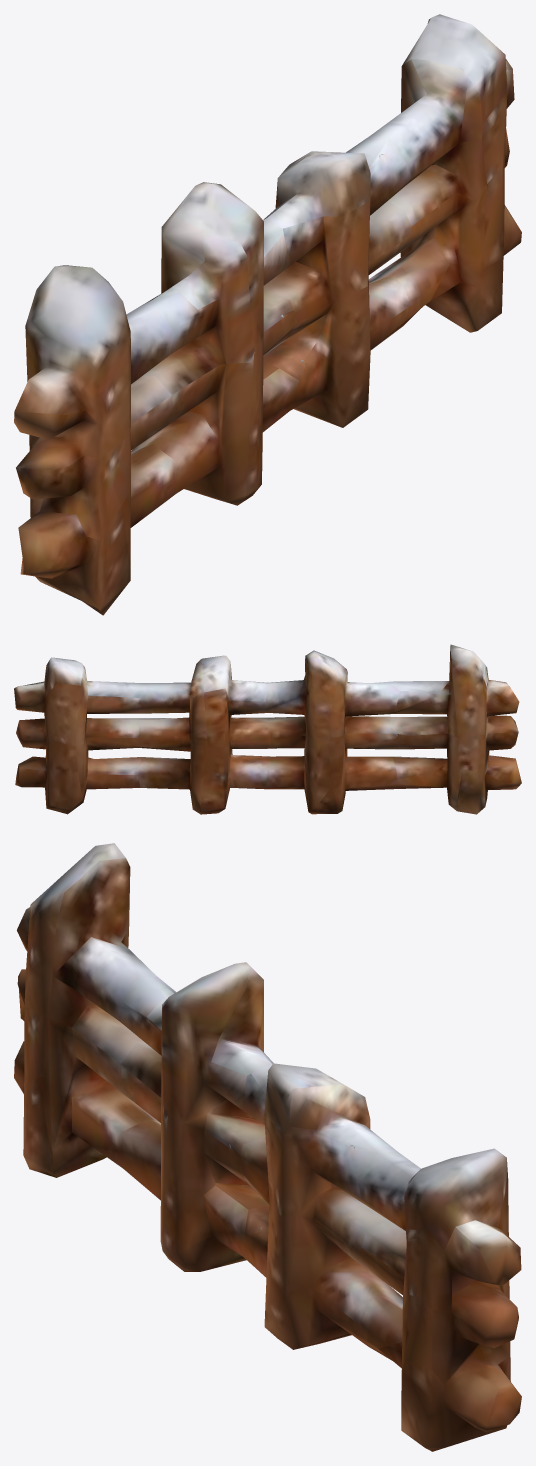
The model's file is dio_fence.glb.
The picture shows the model from 3 angles, top to bottom: view 1: azimuth 30°, elevation 25°; view 2: azimuth 150°, elevation 25°; view 3: azimuth 270°, elevation 25°; orthographic projection. The views are drawn at different scales.
Parts seen in each view (by area): view 1: tripo_part_6; view 2: tripo_part_6; view 3: tripo_part_6.
Boxes of the visible parts, x1,y1,x2,y2 form: tripo_part_6: (14,14,521,615); tripo_part_6: (14,644,521,814); tripo_part_6: (14,843,521,1451).
Size of the model in its own units: 0.1849 by 0.0784 by 0.1118.
Materials: 1 (1 with a texture image).
